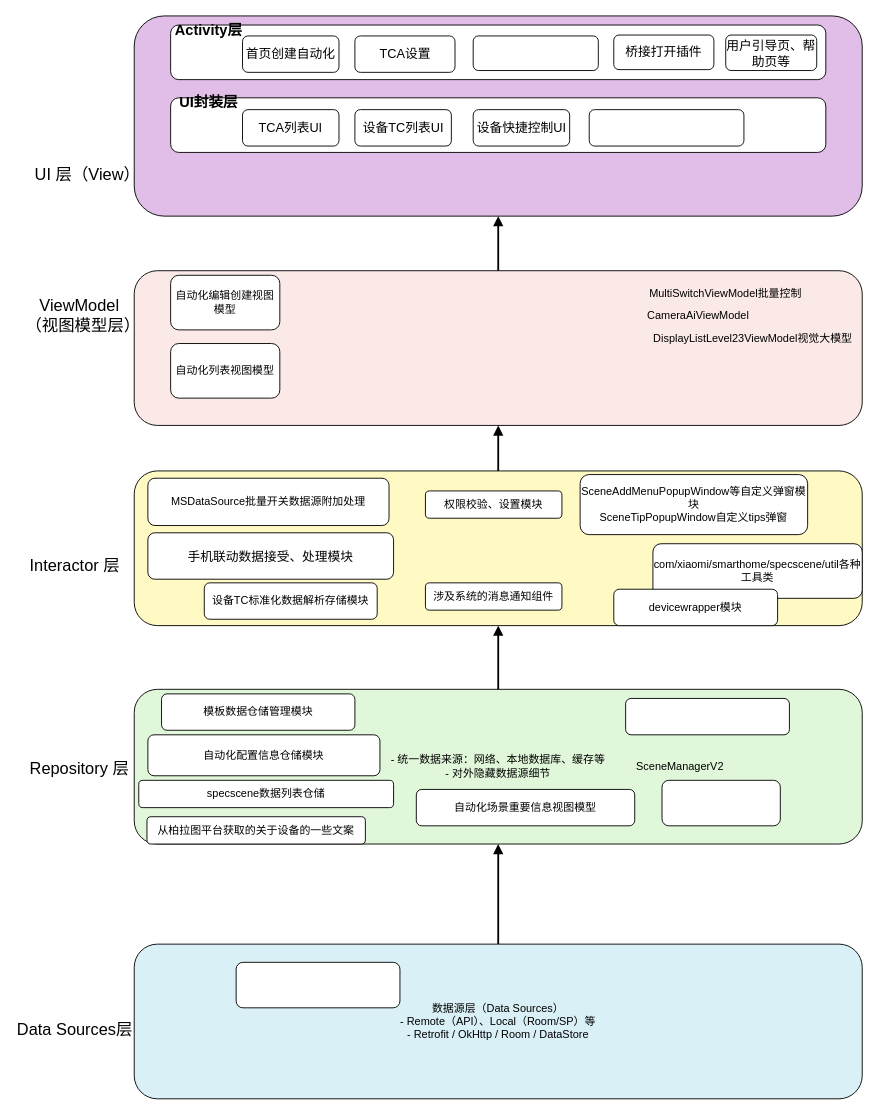
This 878x1115 diagram has some shape labels left out. The box of each missing label's shape, as (x1, y1, x2, y2) in pixels:
- 负责业务状态、数据转换、界面交互协调 - 使用 LiveData / Flow / StateFlow 等: (133, 270, 862, 425)
C700视觉大模型感知数据源: (625, 698, 789, 735)
TCA设置详情页，设备属性设置页: (472, 35, 598, 71)
Use Case / Interactor 层 - 业务逻辑中间层，协调多个仓库数据 - 每个 use case 代表一个具体的业务动作: (133, 470, 862, 626)
其他复杂的UI中间层封装: (588, 109, 744, 146)
设备定时列表仓储模块: (661, 779, 780, 826)
配置数据等实体类本地对应模块: (235, 961, 400, 1008)
